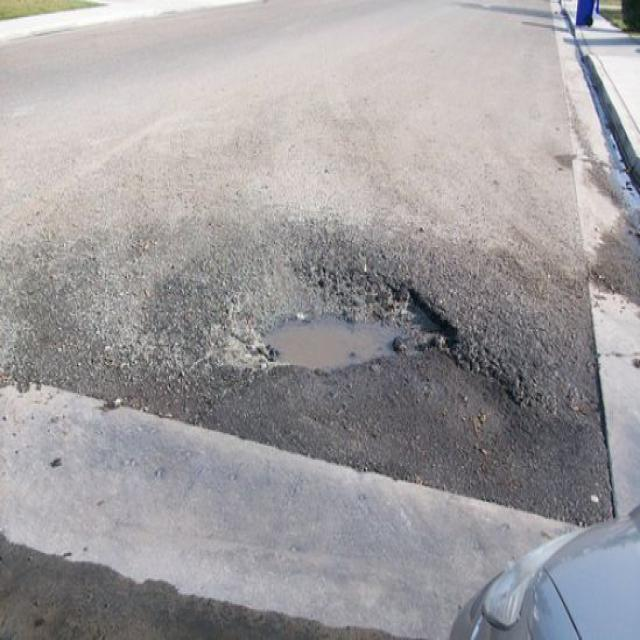pothole: (186, 250, 467, 374)
